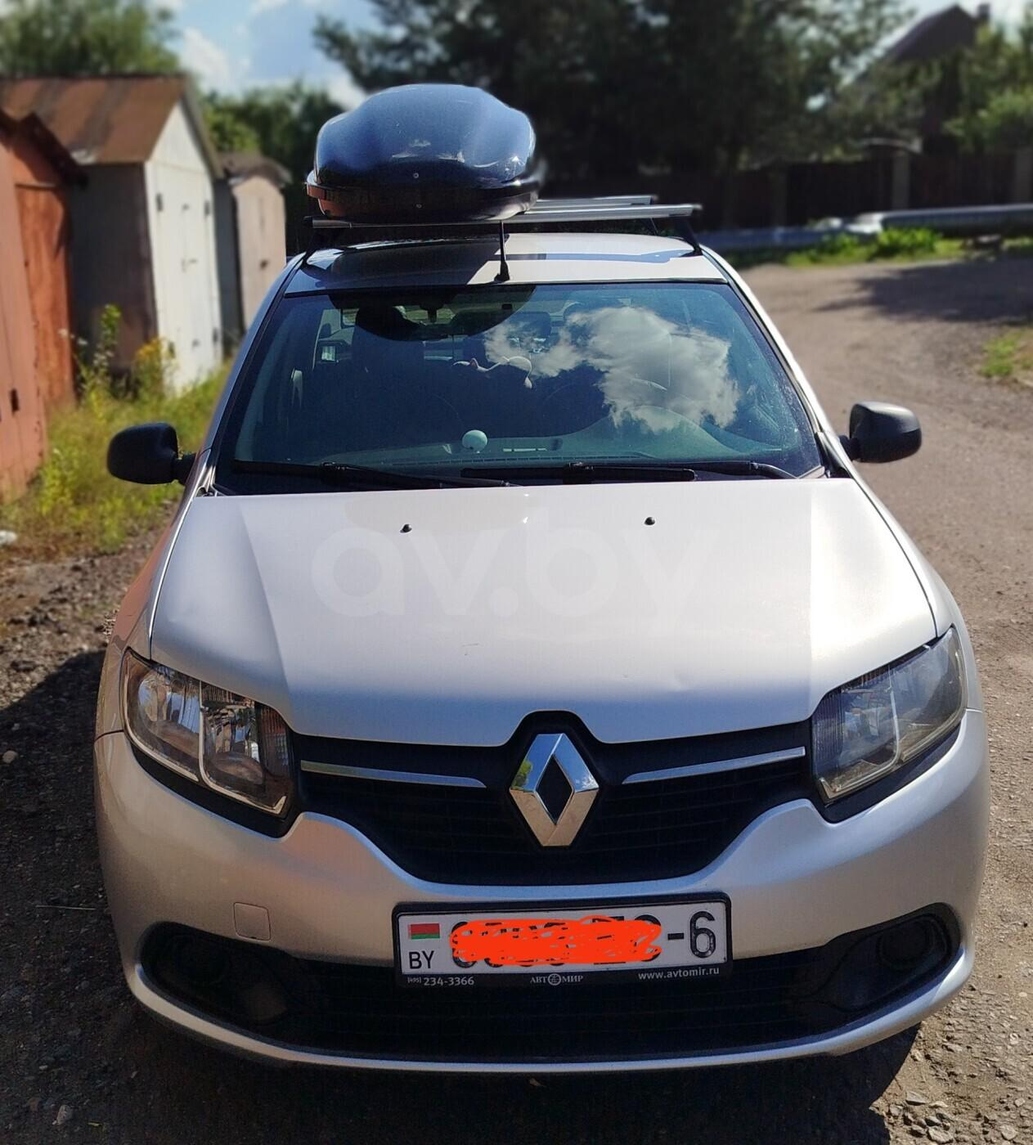Logan_2013-2018: (75, 219, 1003, 1093)
